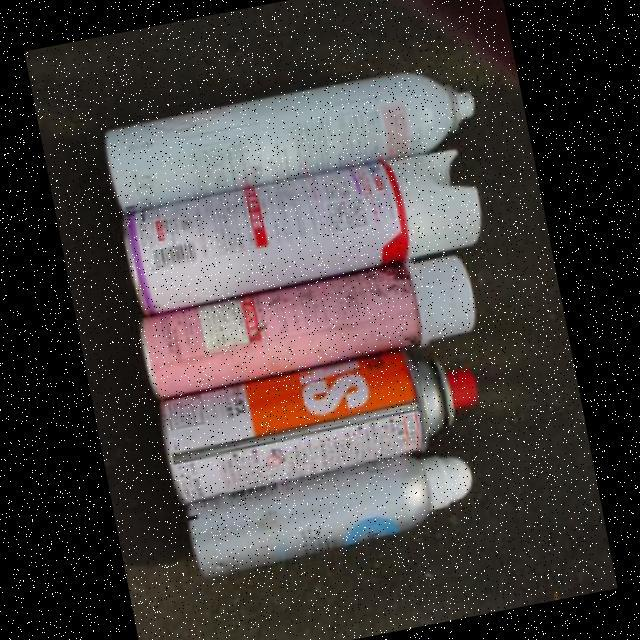chemical_spray_can: (122, 150, 481, 315), (105, 73, 472, 214), (162, 352, 478, 506), (138, 257, 476, 400), (184, 458, 470, 580)
